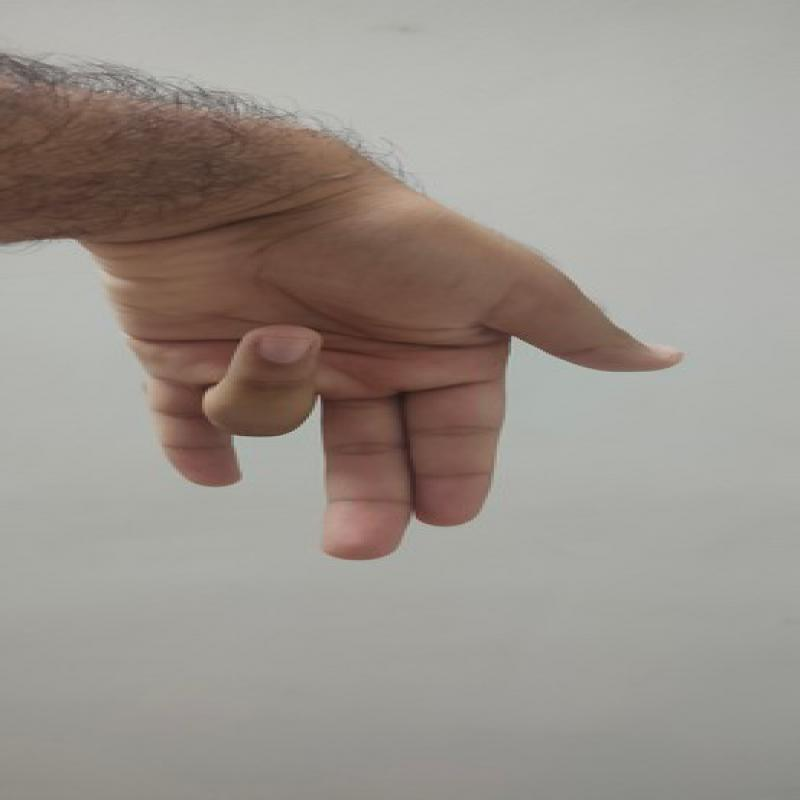Pathaaka: (93, 209, 699, 570)
